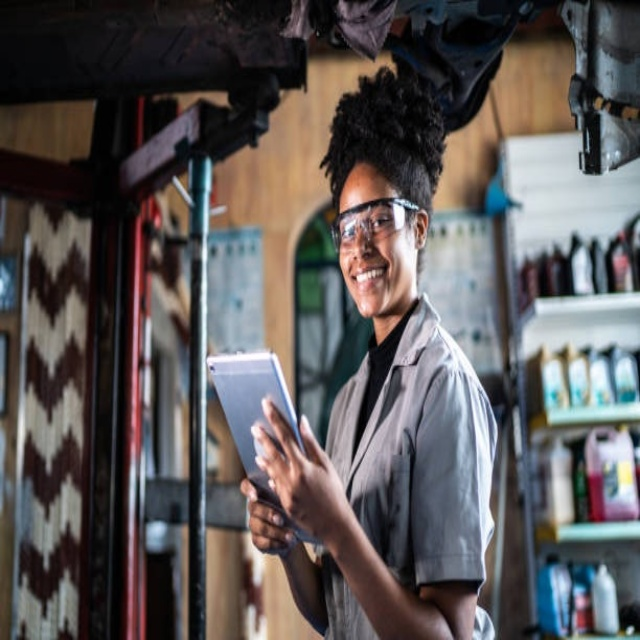Gafas: (331, 196, 422, 254)
Sin_guantes: (249, 394, 346, 551), (243, 474, 303, 557)
Sin_mascara: (349, 257, 393, 309)
